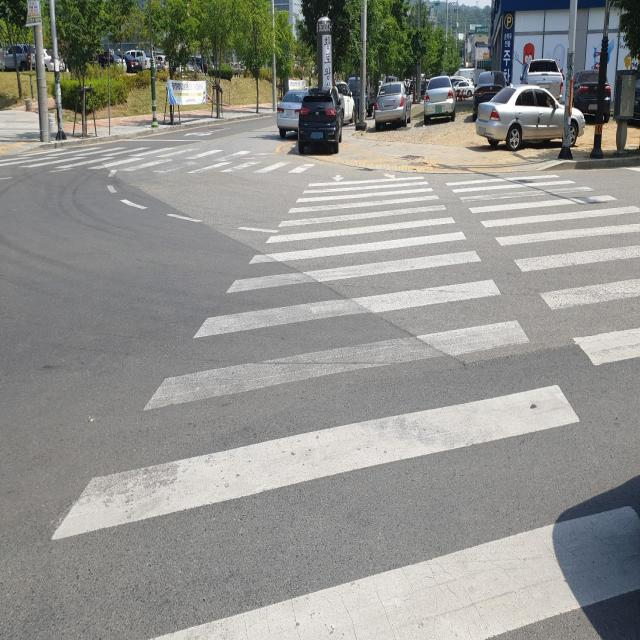횡단보도: (49, 172, 640, 640), (0, 143, 319, 176)
